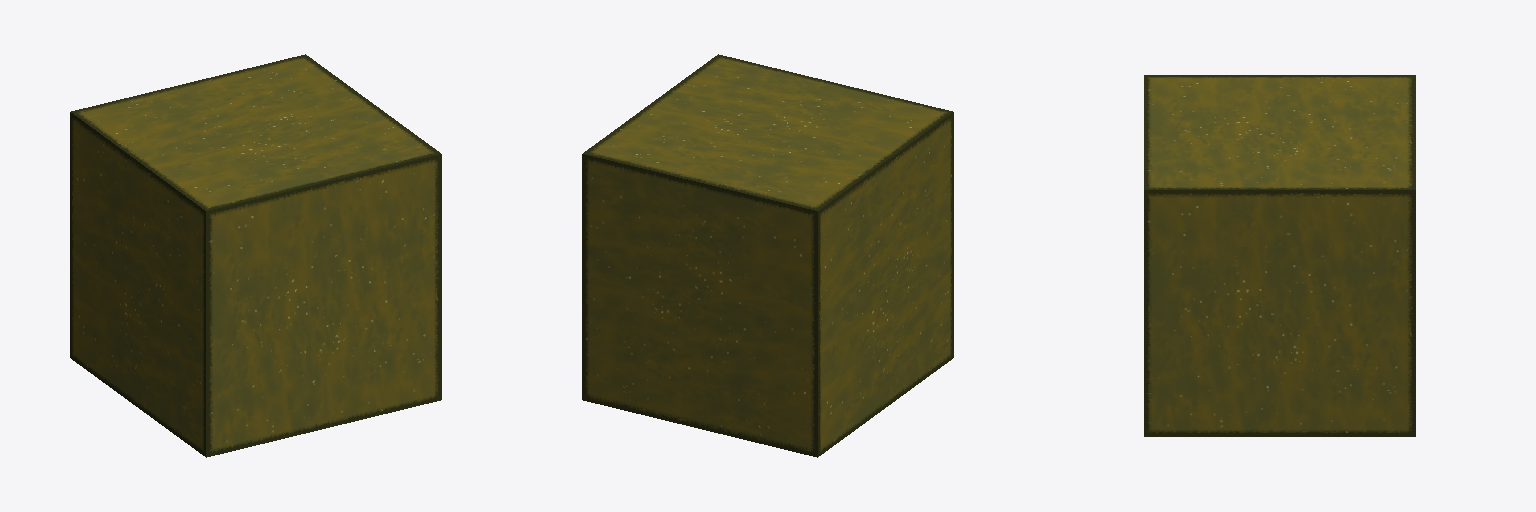
3 views of the same model, side by side, from view 1: azimuth 30°, elevation 25°; view 2: azimuth 150°, elevation 25°; view 3: azimuth 270°, elevation 25° (orthographic).
Parts seen in each view (by area): view 1: 0_path; view 2: 0_path; view 3: 0_path.
Part boxes in pixels (bbox=[...]): 0_path: bbox=[70, 54, 441, 457]; 0_path: bbox=[582, 54, 953, 457]; 0_path: bbox=[1144, 75, 1415, 436].
Bounding box in the file's own units: 1 × 1 × 1.
1 materials, 1 textured.